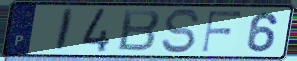4: (81, 7, 112, 54)
6: (246, 10, 280, 54)
B: (115, 8, 162, 53)
F: (199, 10, 244, 54)
I: (53, 7, 76, 53)
S: (160, 7, 202, 55)
